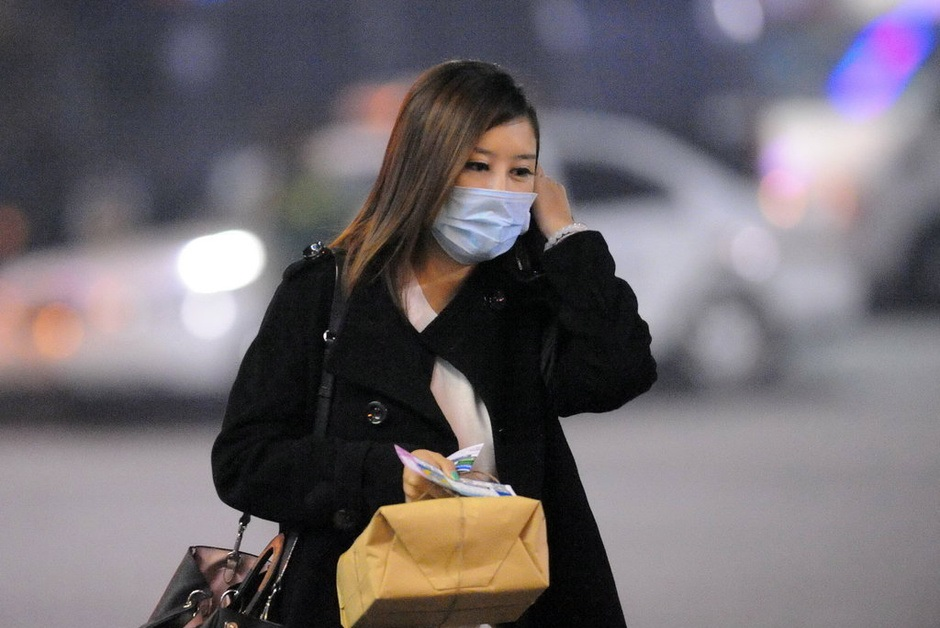face_mask: (432, 109, 537, 259)
